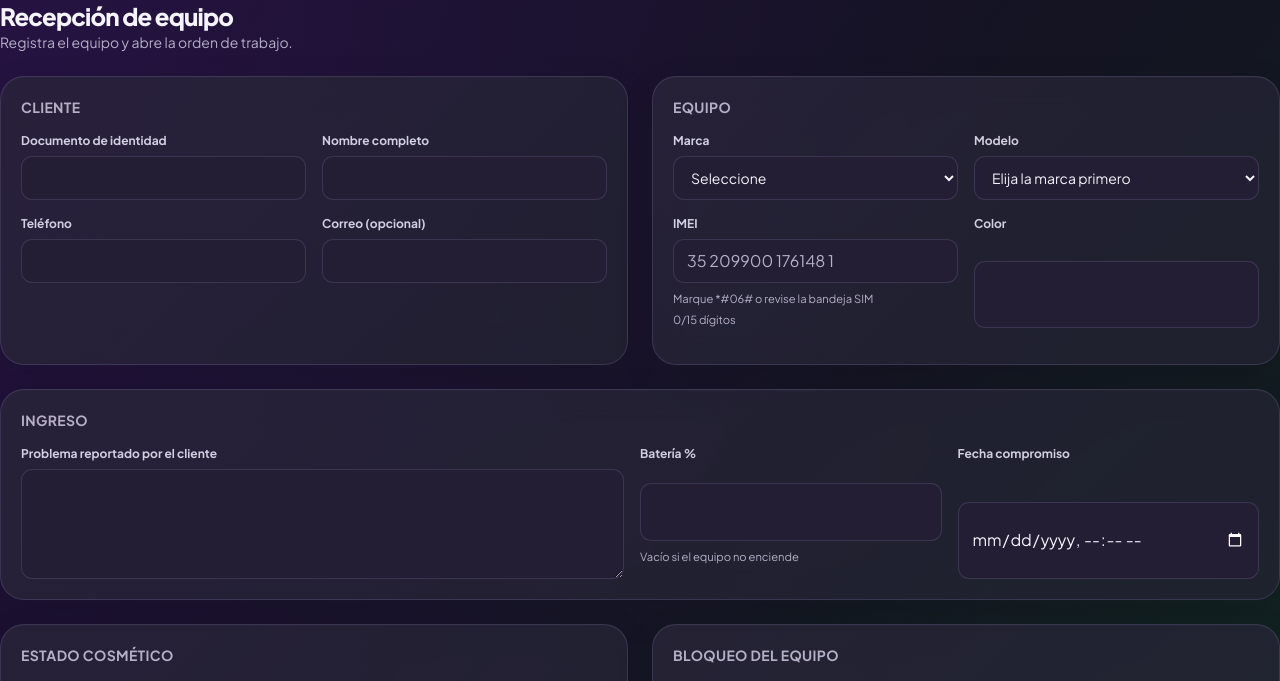
Test: CheckInPage (US-F03) › formats the IMEI while typing [002/RF-1.1]
Type "352099001761481" into the field labelled "IMEI". click: (816, 261)
box: 673,239 -> 958,283
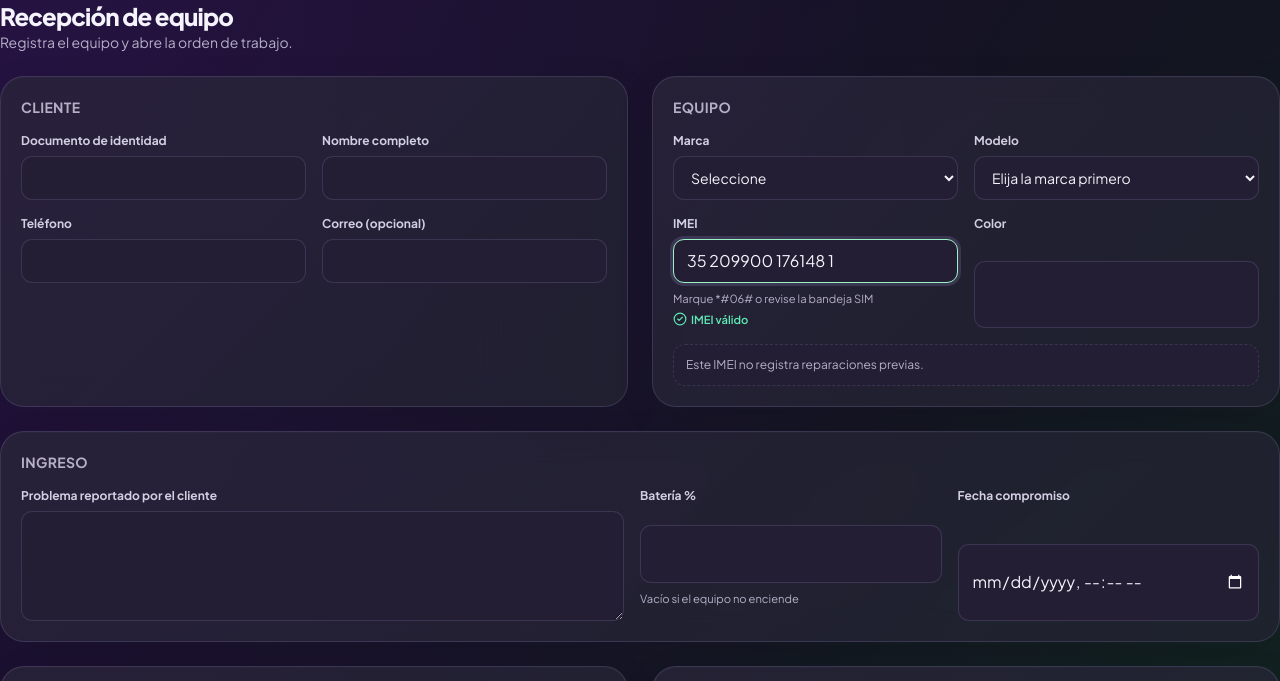
Check: the field labelled "IMEI" holds "35 209900 176148 1", box 673,239 -> 958,283
Check: the text "IMEI válido" is shown, box 673,312 -> 748,326
